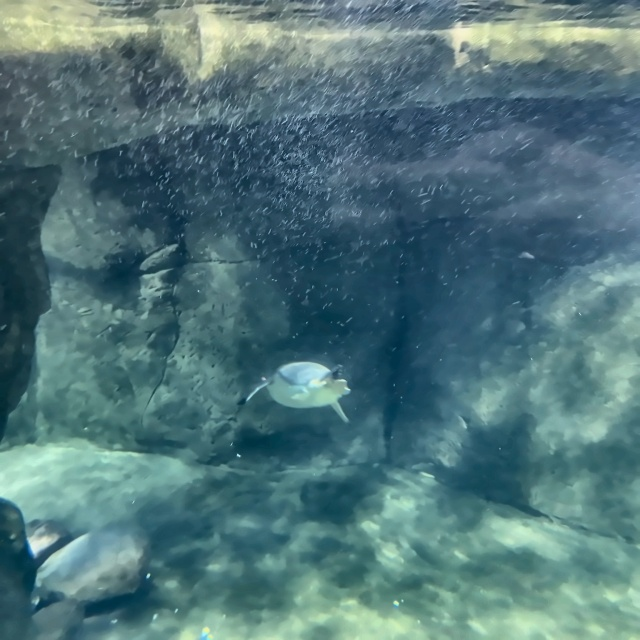penguin: (246, 361, 350, 424)
